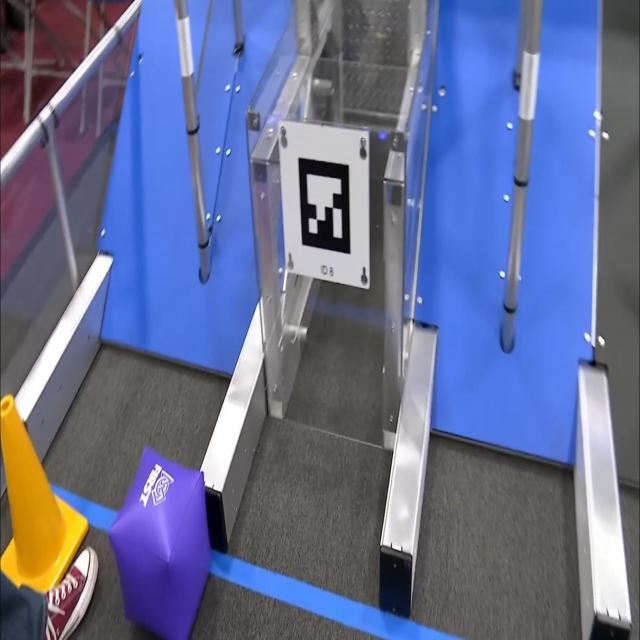frc_cone: (0, 390, 87, 608)
frc_cube: (109, 444, 217, 640)
